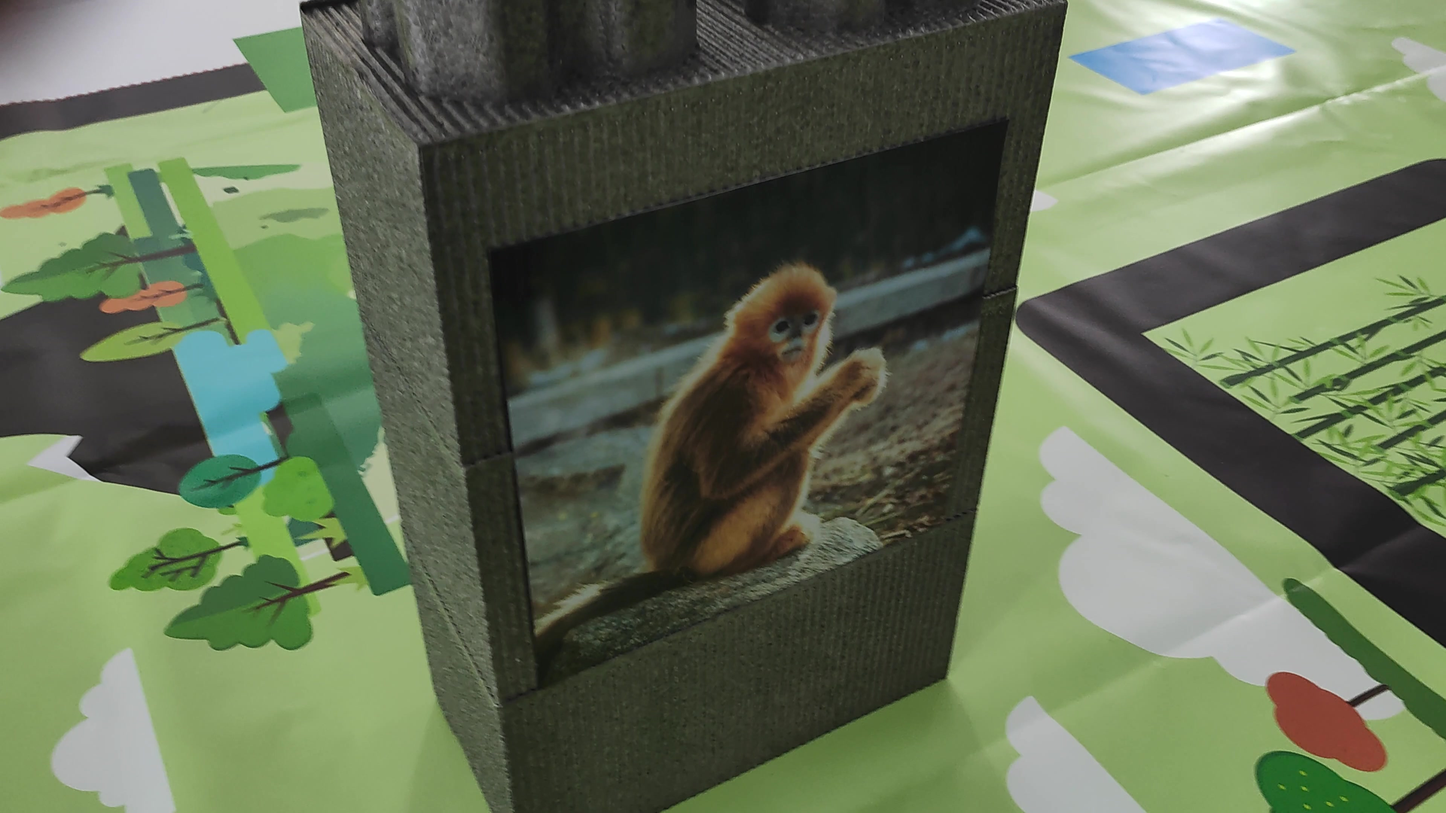monkey: (511, 242, 902, 615)
